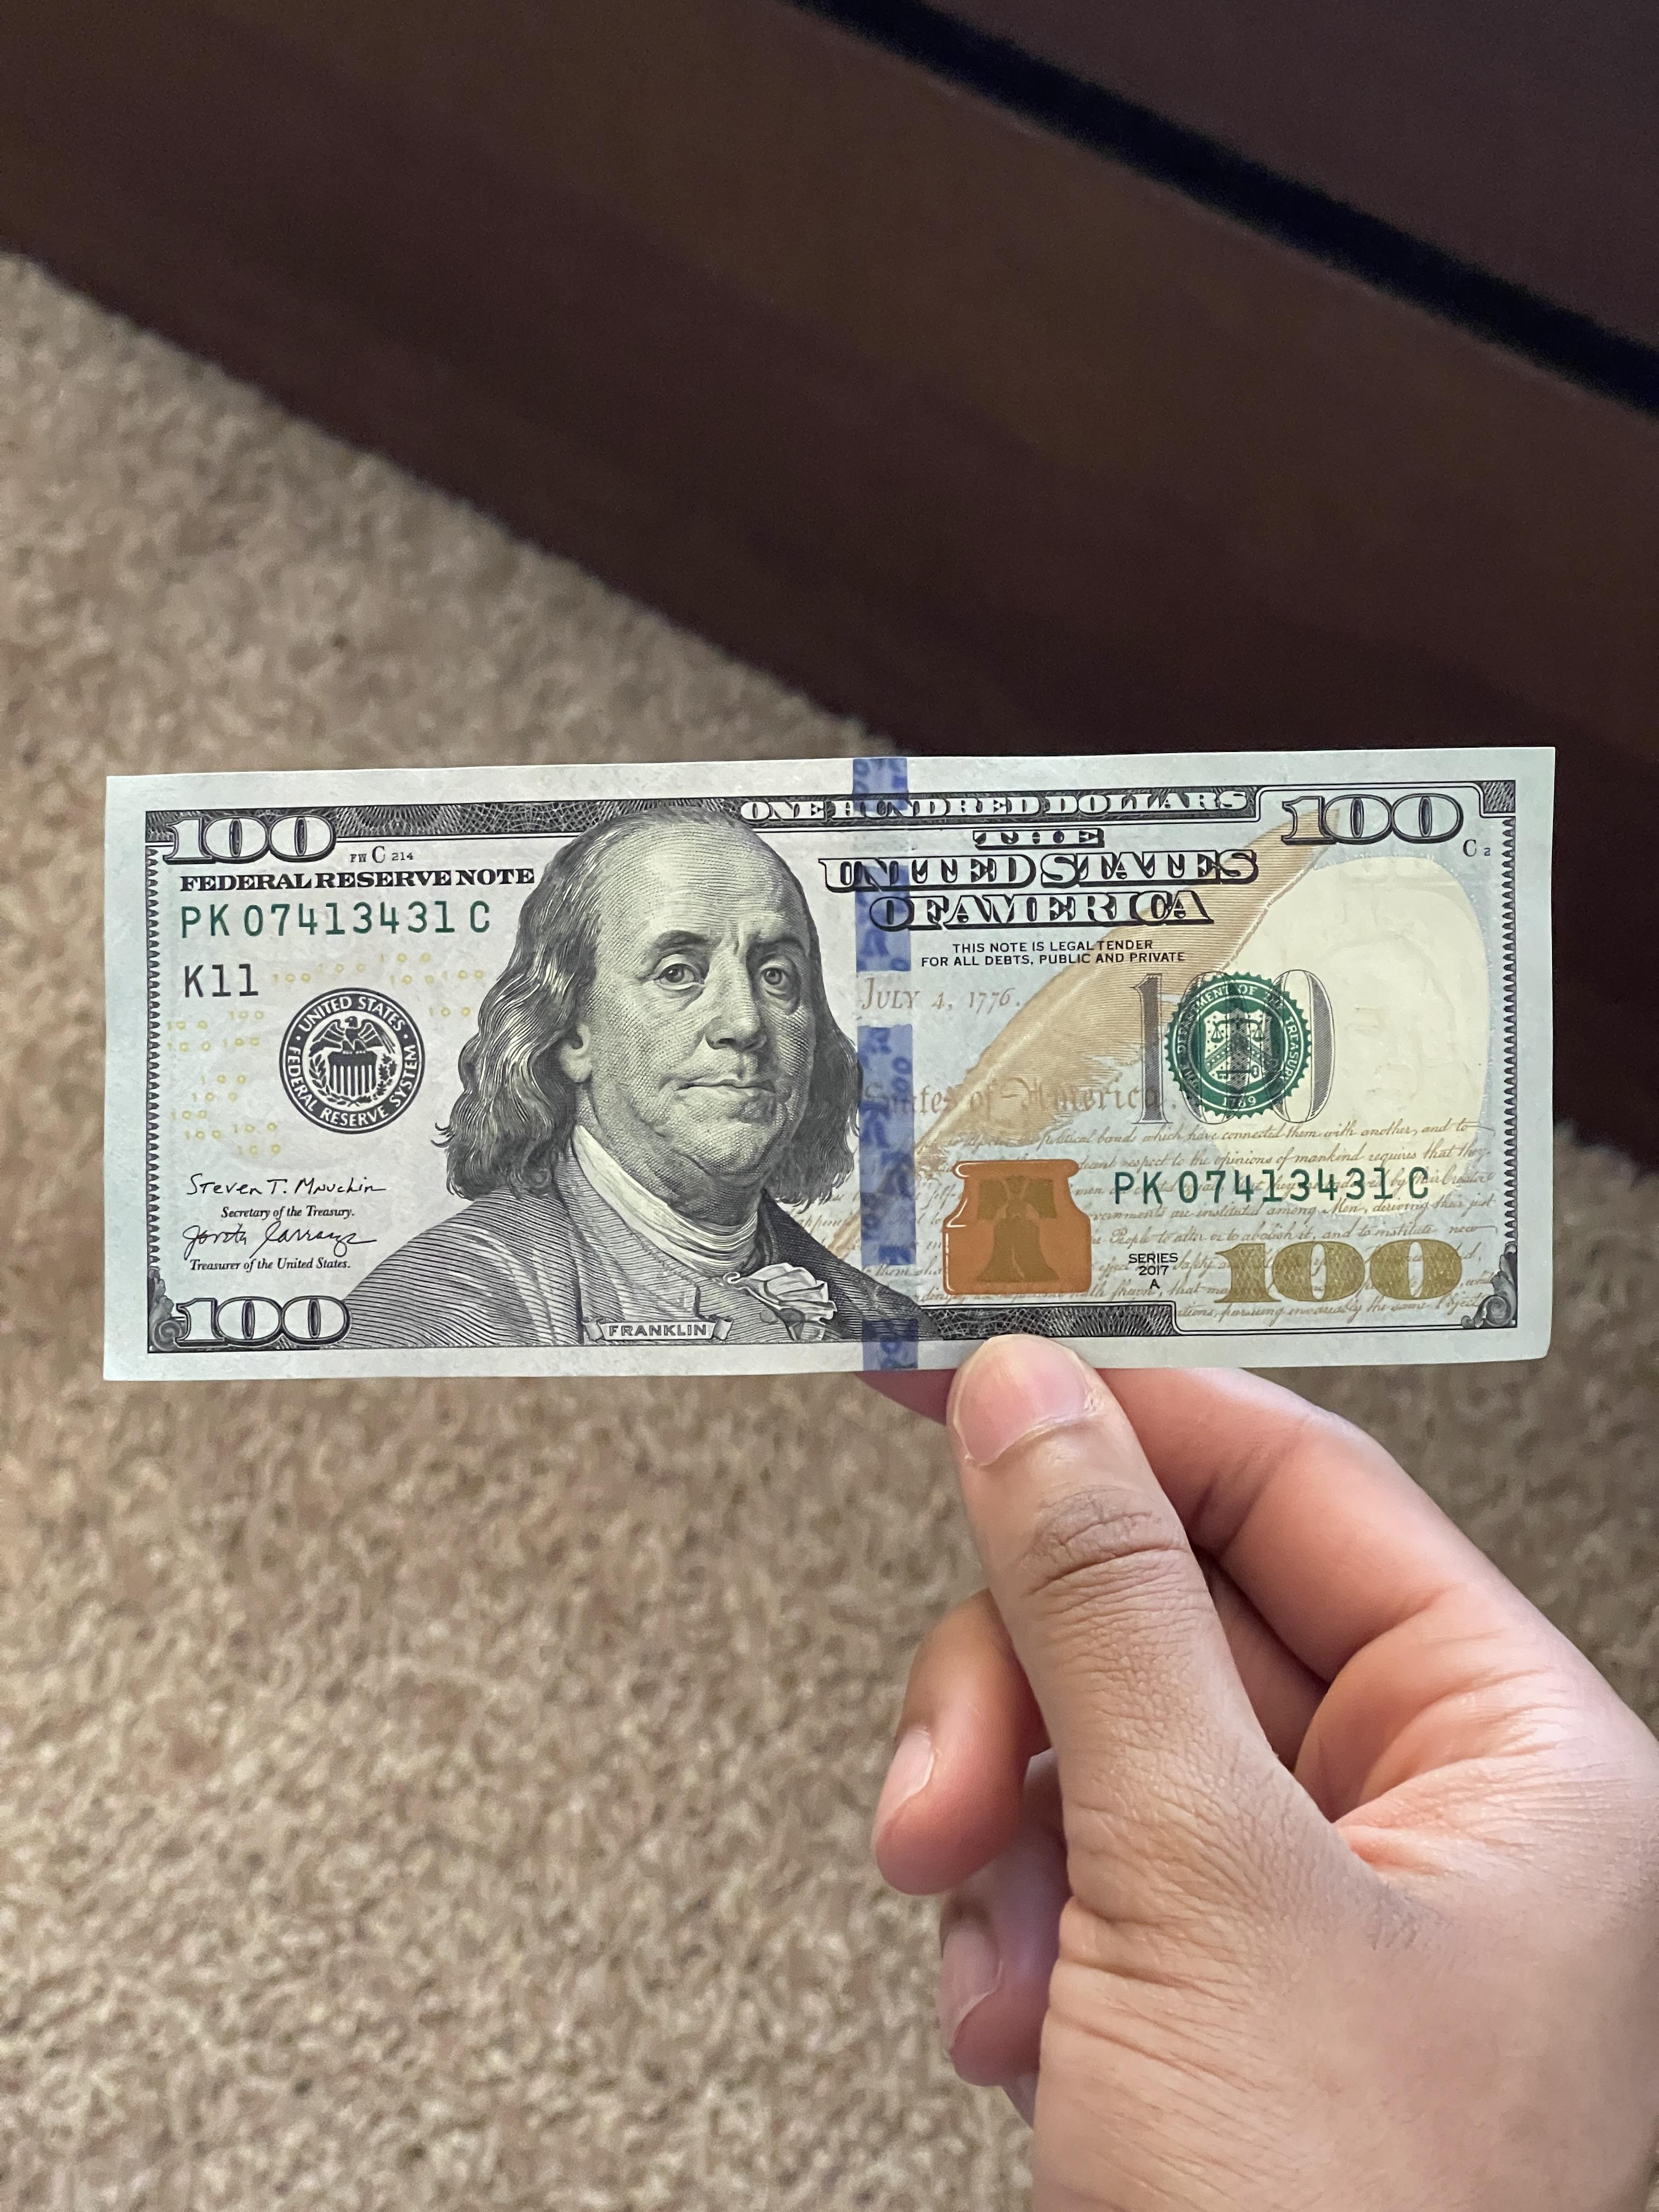HundredBill: (94, 738, 1563, 1388)
